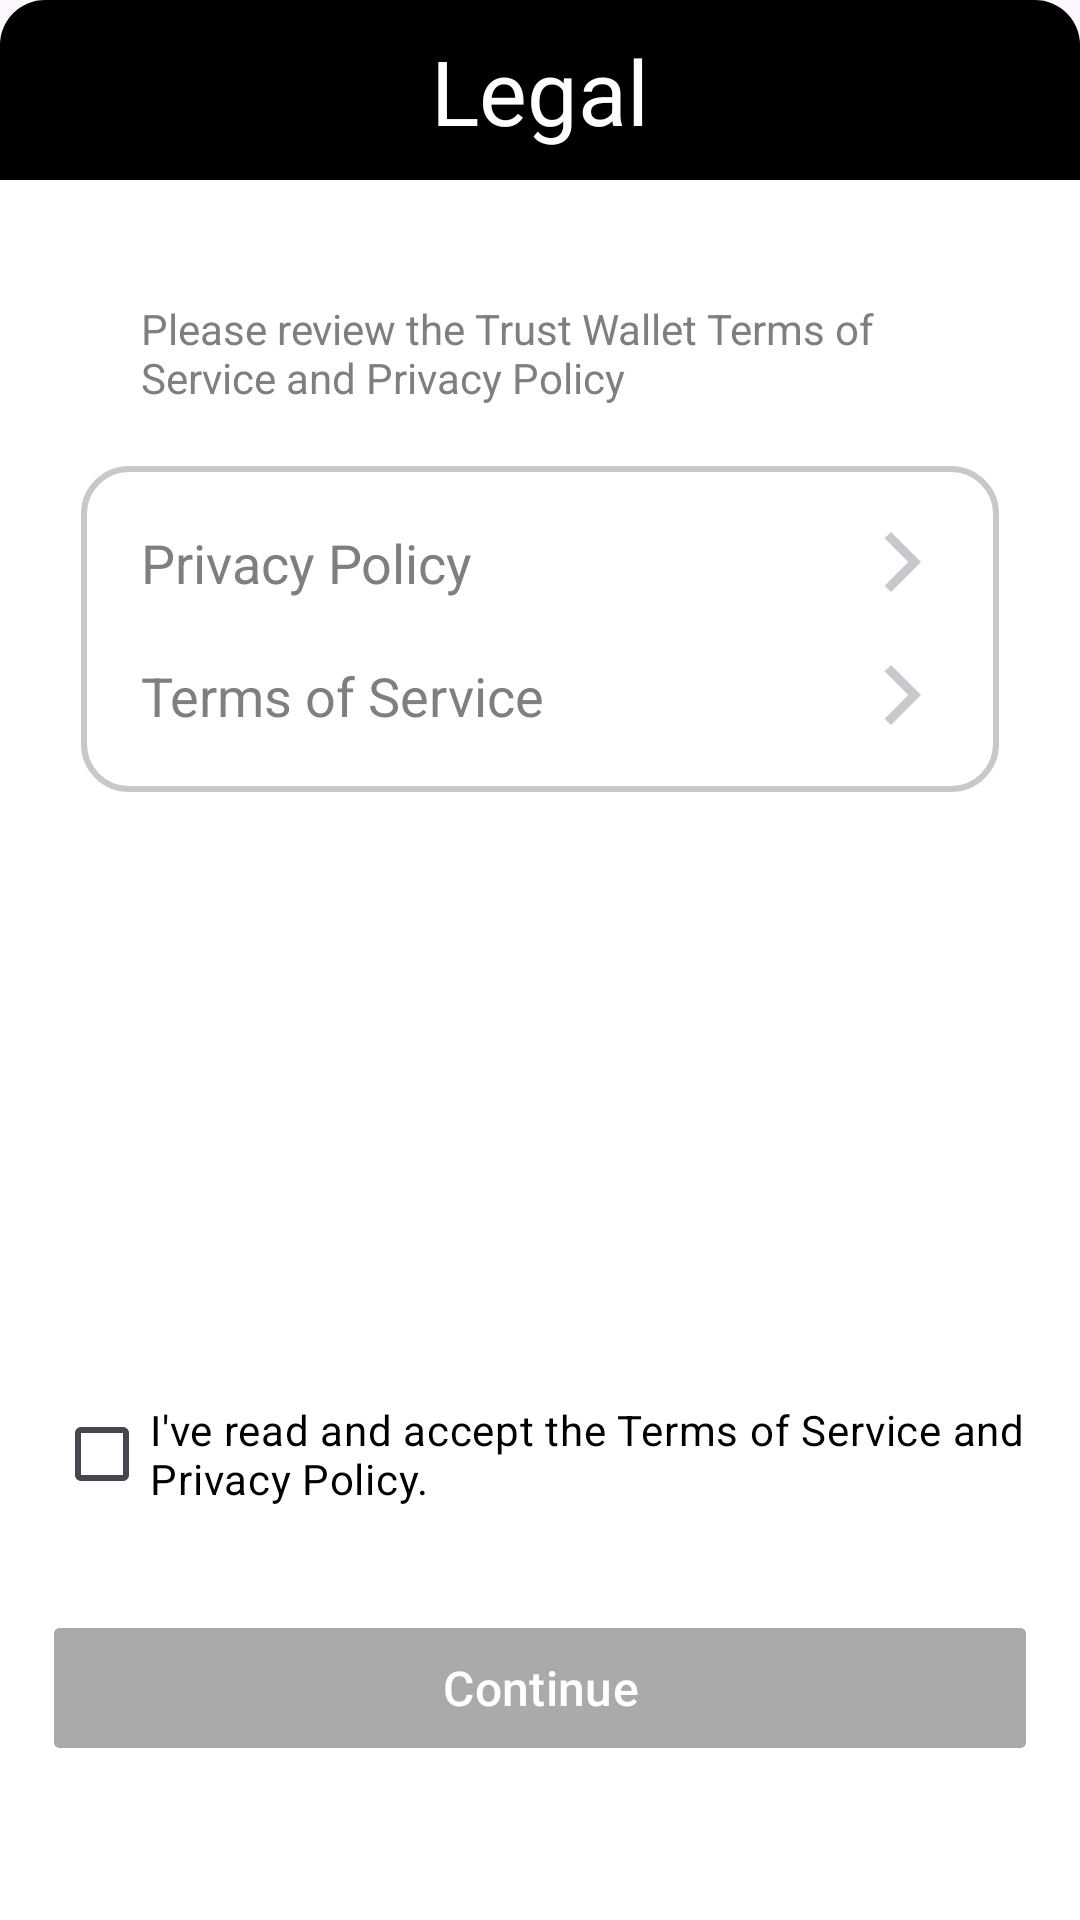

Point at icon controls on the screen. Image size 1080*1920, points as point (x, y).
right: point (903, 562), point (903, 695)
